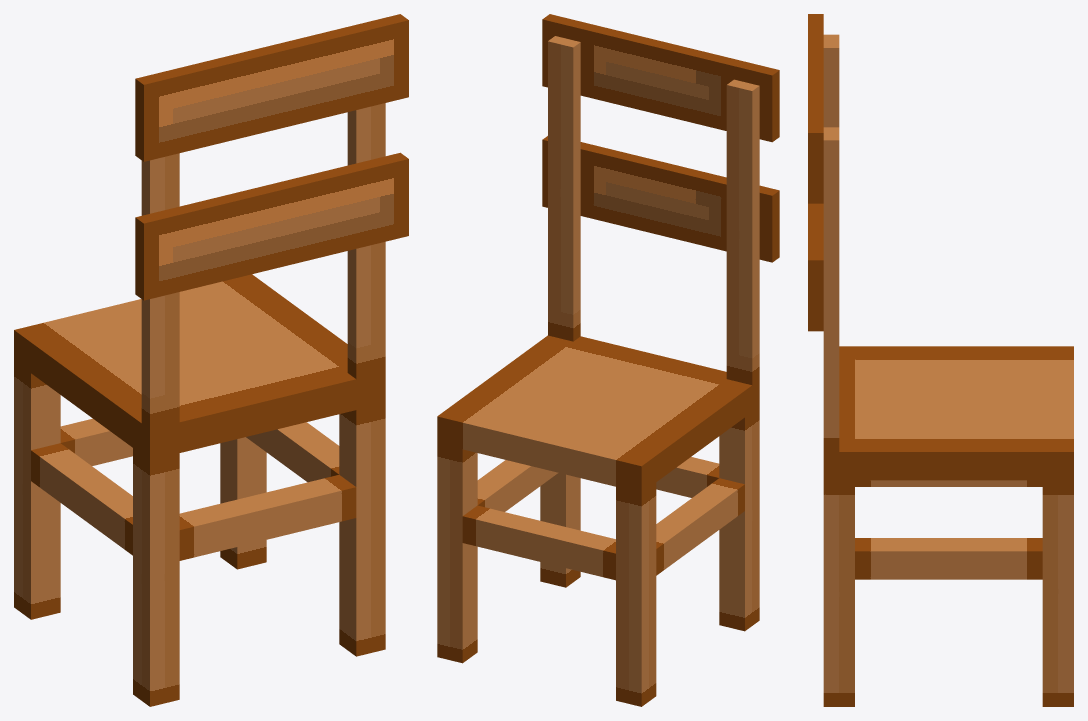
File: chair.dae
3 views of the same model, side by side, from view 1: azimuth 30°, elevation 25°; view 2: azimuth 150°, elevation 25°; view 3: azimuth 270°, elevation 25° (orthographic). The views are drawn at different scales.
Parts seen in each view (by area): view 1: cuboid; view 2: cuboid; view 3: cuboid.
Boxes of the visible parts, x1,y1,x2,y2 form: cuboid: (14, 14, 408, 706); cuboid: (437, 14, 779, 706); cuboid: (808, 14, 1073, 706).
Size of the model in its own units: 1.12 by 2.56 by 1.06.
1 material, 1 textured.
